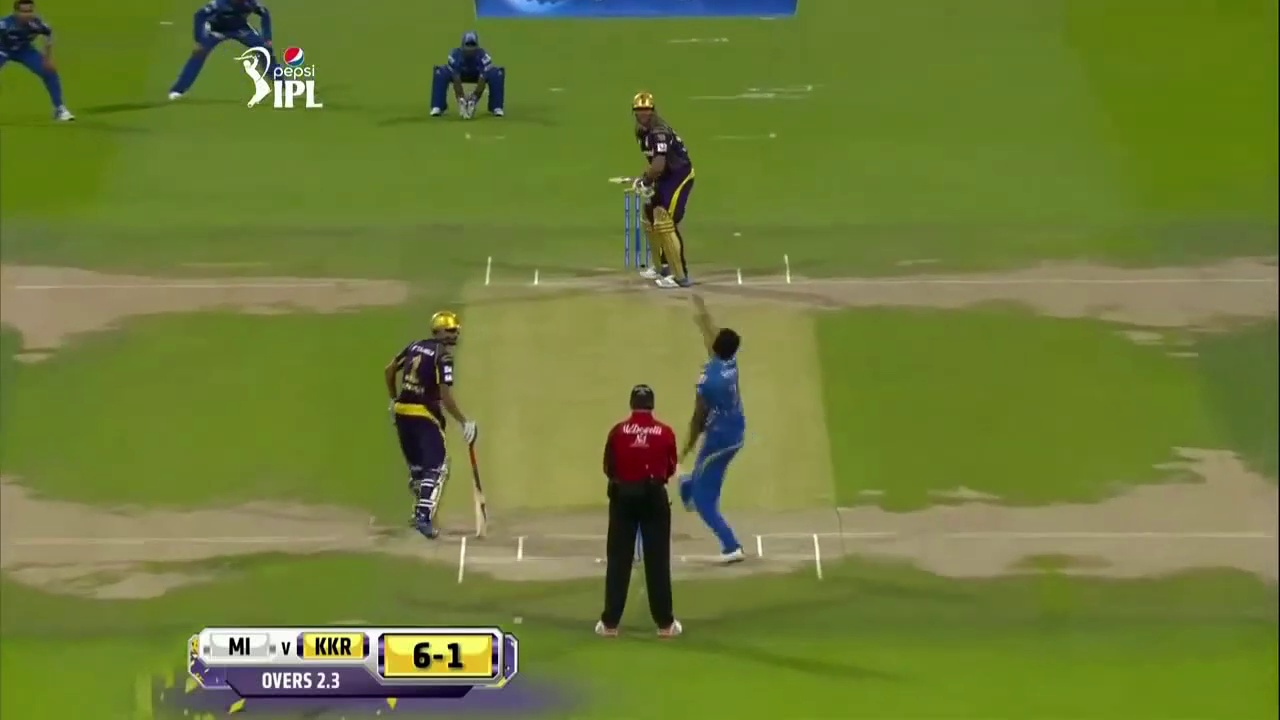bat: (468, 446, 488, 540)
